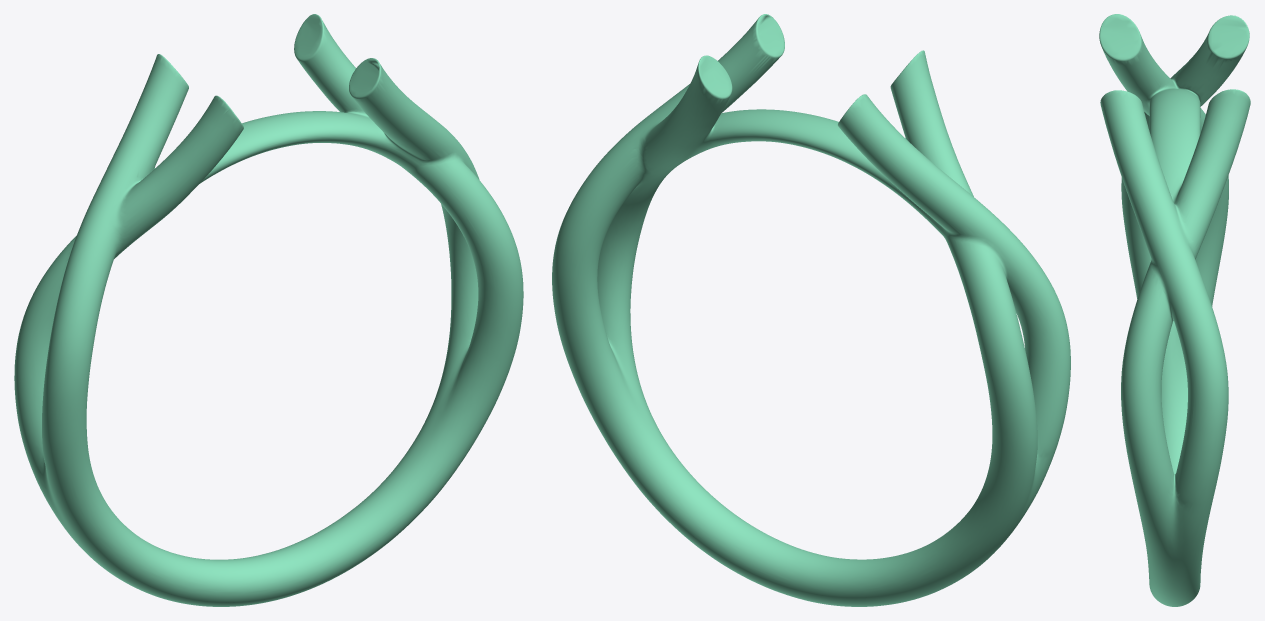
The picture shows the model from 3 angles, left to right: view 1: azimuth 30°, elevation 25°; view 2: azimuth 150°, elevation 25°; view 3: azimuth 270°, elevation 25°; orthographic projection. The views are drawn at different scales.
Parts seen in each view (by area): view 1: Metal02; view 2: Metal02; view 3: Metal02.
Boxes of the visible parts, x1,y1,x2,y2 form: Metal02: (14, 14, 523, 606); Metal02: (552, 14, 1070, 606); Metal02: (1099, 14, 1250, 606).
Size of the model in its own units: 21.12 by 22.84 by 5.9.
